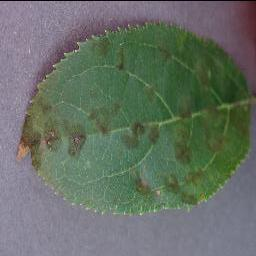apple healthy: (15, 19, 255, 216)
